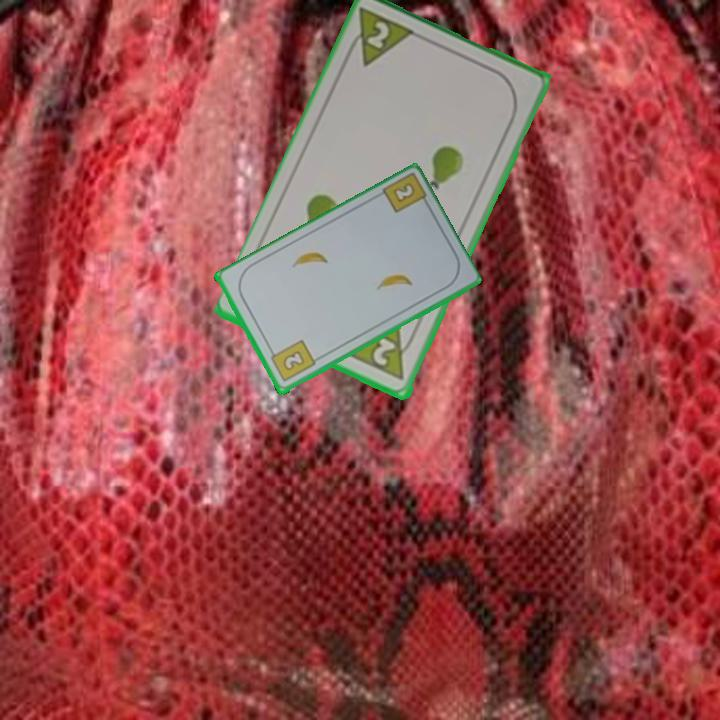2b: (266, 337, 318, 385), (389, 179, 418, 206)
2p: (341, 5, 420, 71), (369, 334, 399, 370)
